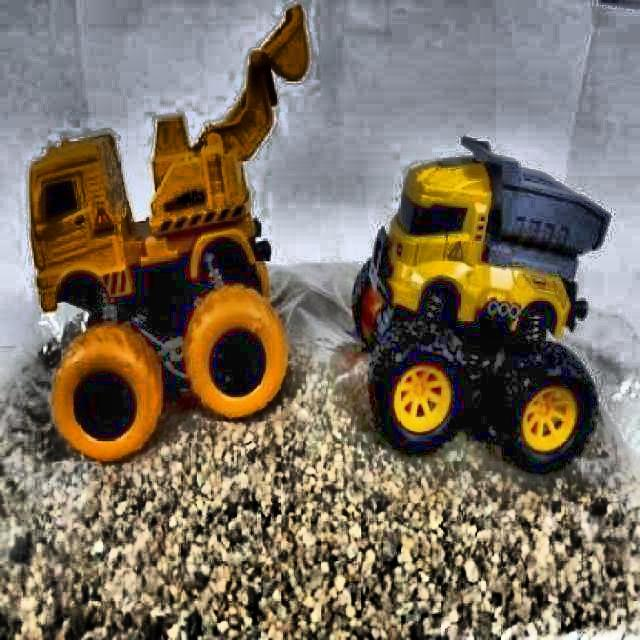dump_truck: (352, 125, 614, 501)
